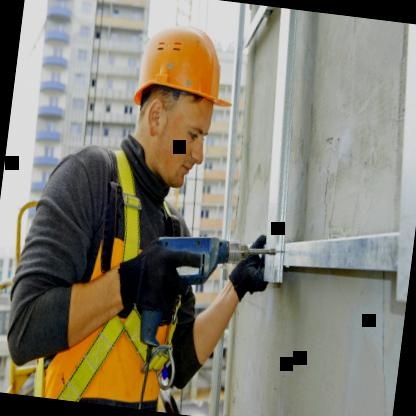helmet: (112, 0, 244, 204)
